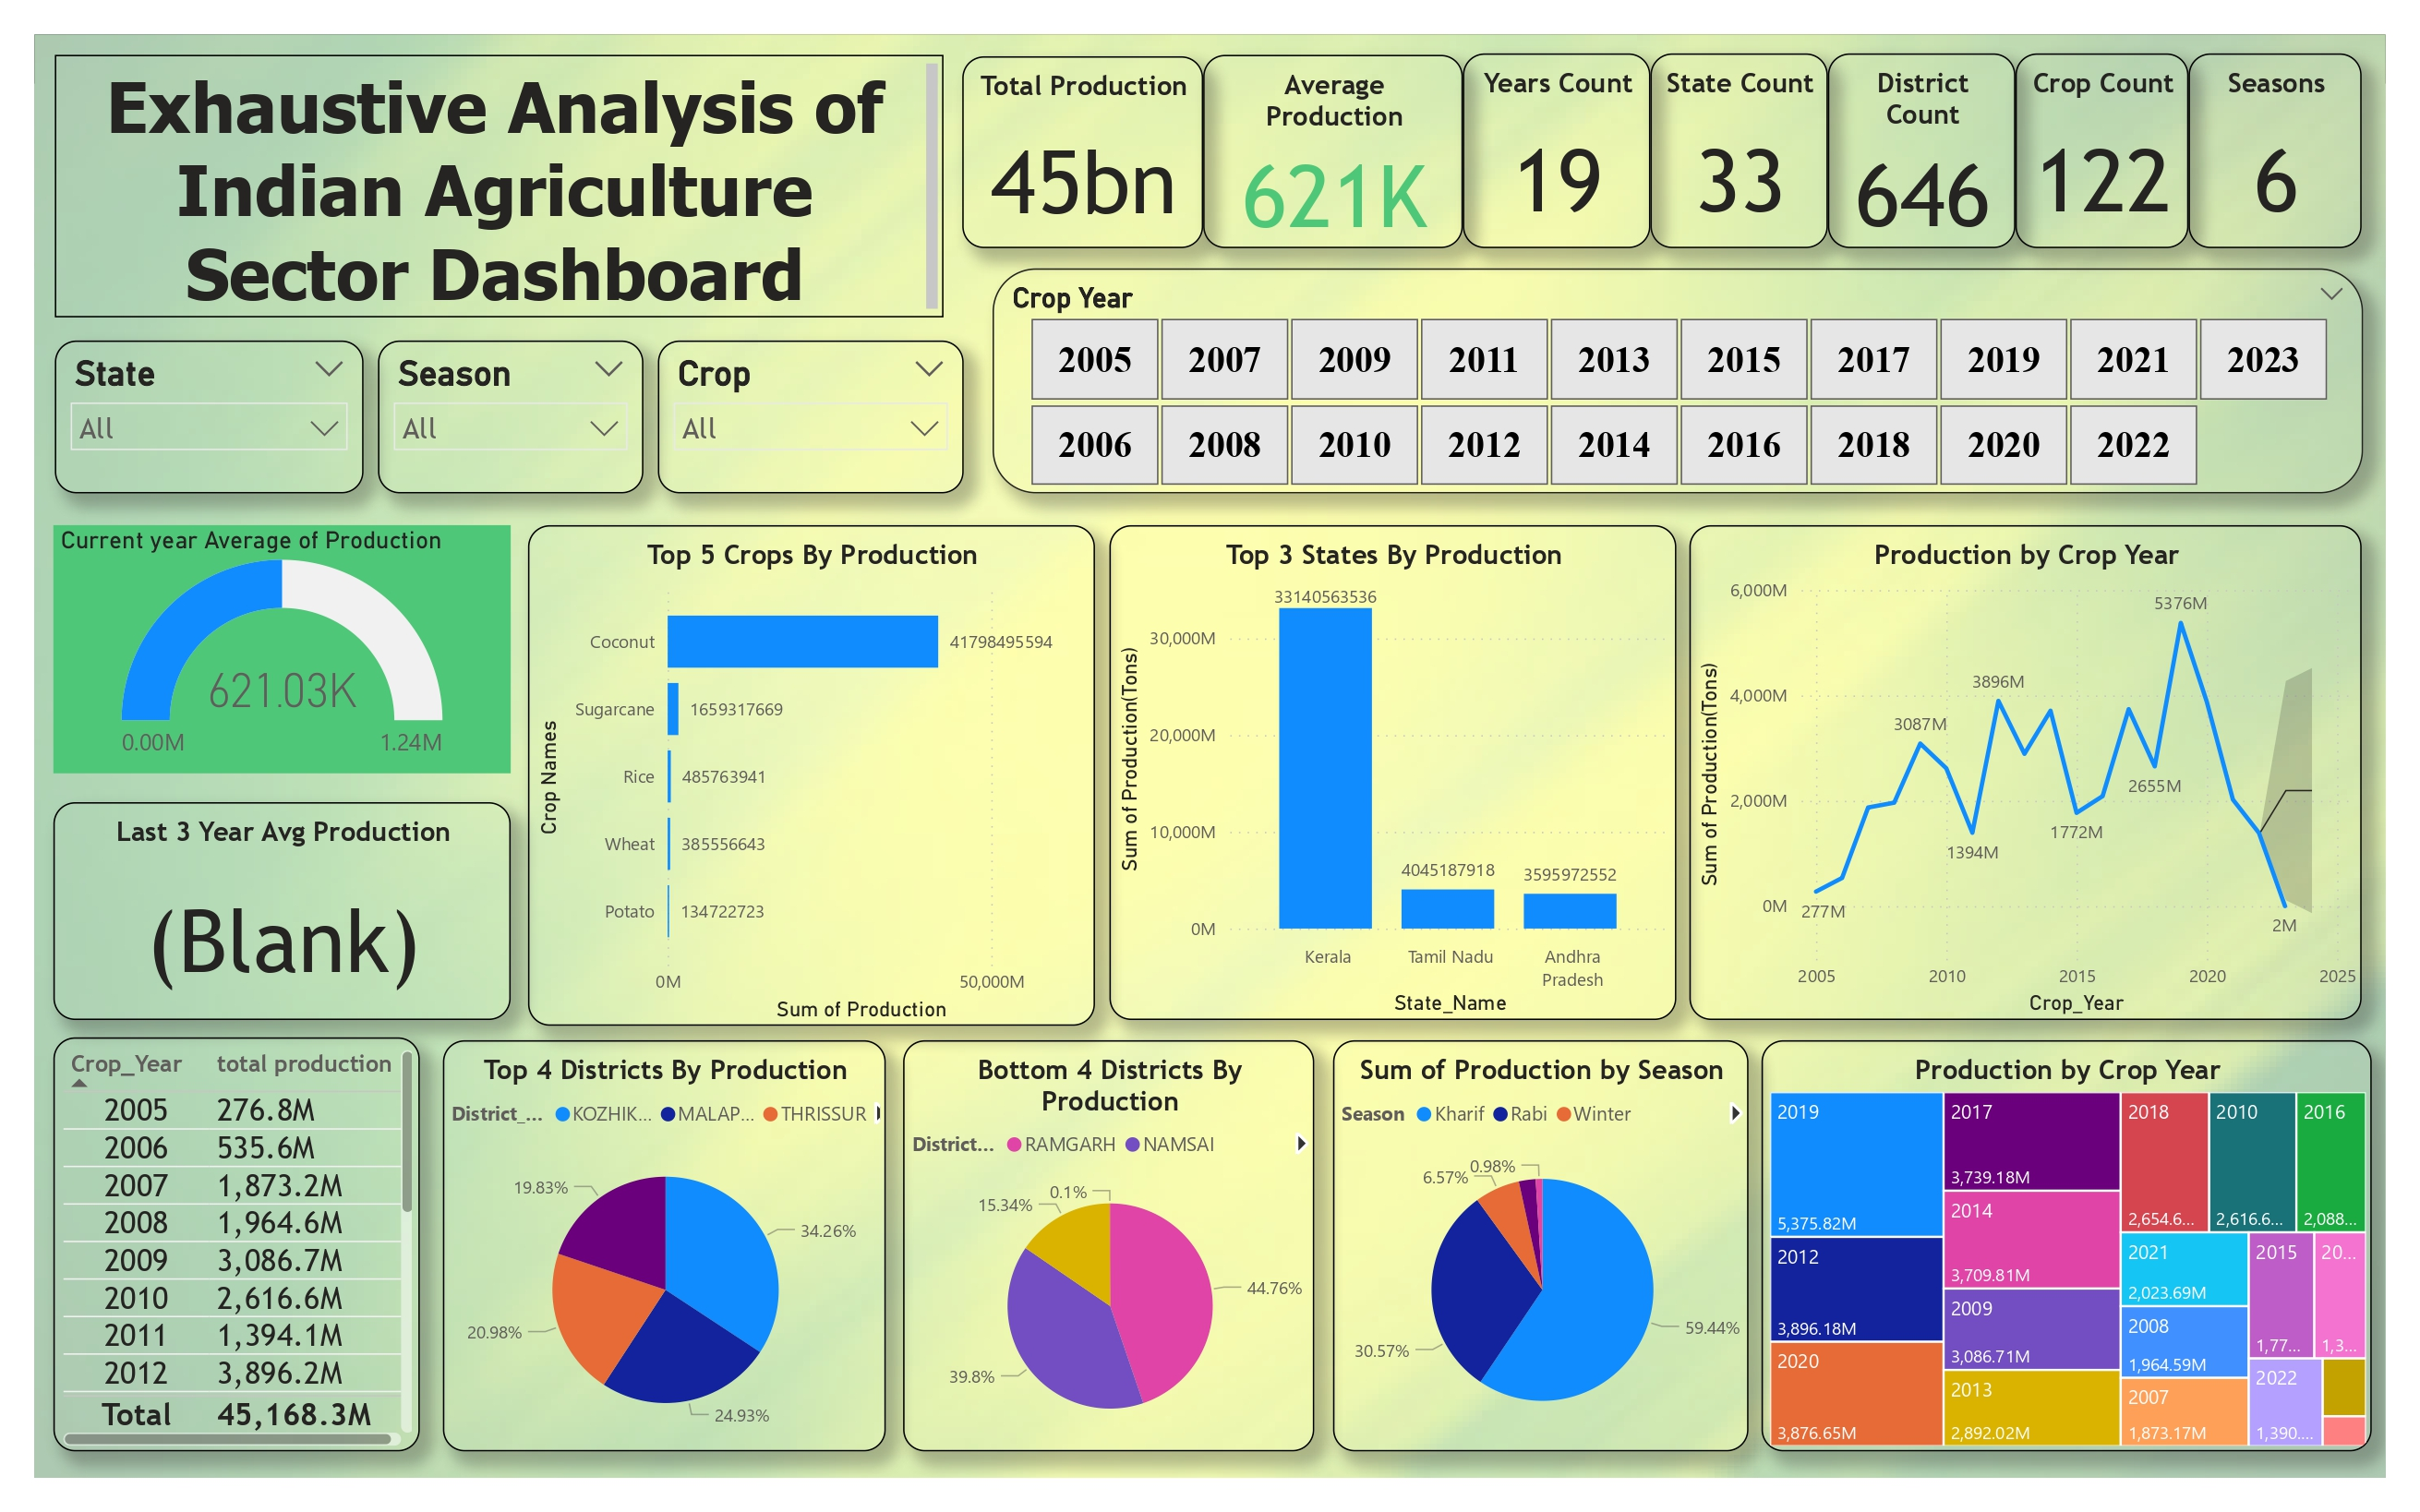

The page's visual inventory and layout, read from the dashboard file:
{"tool":"powerbi","page":{"name":"Dashboard ","canvas":[1630,1000],"ordinal":0},"visuals":[{"type":"slicer","fields":{"Values":["apy_1.Crop_Year"]},"box":[664,162,950,156],"z":0},{"type":"slicer","fields":{"Values":["apy_1.Crop"]},"box":[432,212,212,106],"z":1000},{"type":"slicer","fields":{"Values":["apy_1.State_Name"]},"box":[14,212,214,106],"z":2000},{"type":"barChart","title":"Top 5 Crops By Production ","fields":{"Category":["apy_1.Crop"],"Y":["Sum(apy_1.Production(Tons))"]},"box":[341.7,340,393.3,346.7],"z":3000},{"type":"columnChart","title":"Top 3 States By Production ","fields":{"Category":["apy_1.State_Name"],"Y":["Sum(apy_1.Production(Tons))"]},"box":[745,340,393.3,343.3],"z":4000},{"type":"pieChart","title":"Top 4 Districts By Production ","fields":{"Category":["apy_1.District_Name"],"Y":["Sum(apy_1.Production(Tons))"]},"box":[283.3,696.7,306.7,285],"z":5000},{"type":"pieChart","title":"Bottom 4 Districts By Production ","fields":{"Category":["apy_1.District_Name"],"Y":["Sum(apy_1.Production(Tons))"]},"box":[601.7,696.7,285,285],"z":6000},{"type":"pieChart","title":"Sum of Production by Season","fields":{"Y":["Sum(apy_1.Production(Tons))"],"Category":["apy_1.Season"]},"box":[900,696.7,288.3,285],"z":7000},{"type":"treemap","title":"Production by Crop Year","fields":{"Group":["apy_1.Crop_Year"],"Values":["Sum(apy_1.Production(Tons))"]},"box":[1196.7,696.7,423.3,285],"z":8000},{"type":"slicer","fields":{"Values":["apy_1.Season"]},"box":[238,212,184,106],"z":9000},{"type":"gauge","title":"Current year Average of Production","fields":{"Y":["Avg(apy_1.Production(Tons))"]},"box":[13.3,340,316.7,171.7],"z":10000},{"type":"card","title":"Last 3 Year Avg Production","fields":{"Values":["apy_1.AvgProductionLastthreeYears"]},"box":[13.3,531.7,316.7,151.7],"z":11000},{"type":"card","title":"Average Production","fields":{"Values":["Avg(apy_1.Production(Tons))"]},"box":[810,14,180,134],"z":12000},{"type":"card","title":"Total Production","fields":{"Values":["apy_1.total production"]},"box":[643.3,15,166.7,133.3],"z":13000},{"type":"card","title":"State Count","fields":{"Values":["apy_1.state count"]},"box":[1120,13.3,123.3,135],"z":14000},{"type":"card","title":"District Count ","fields":{"Values":["apy_1.district count"]},"box":[1243.3,13.3,130,135],"z":15000},{"type":"card","title":"Years Count ","fields":{"Values":["apy_1.years count"]},"box":[990,13.3,130,135],"z":16000},{"type":"card","title":"Crop Count","fields":{"Values":["apy_1.crop count"]},"box":[1373.3,13.3,120,135],"z":17000},{"type":"textbox","box":[14,14,616,182],"z":18000},{"type":"card","title":"Seasons","fields":{"Values":["apy_1.season count"]},"box":[1493.3,13.3,120,135],"z":19000},{"type":"tableEx","fields":{"Values":["apy_1.Crop_Year","apy_1.total production"]},"box":[13.3,695,253.3,286.7],"z":20000},{"type":"lineChart","title":"Production by Crop Year","fields":{"Y":["Sum(apy_1.Production(Tons))"],"Category":["apy_1.Crop_Year"]},"box":[1146.7,340,466.7,343.3],"z":21000}]}

Visuals, with their boxes in screenshot pixels (x1, y1, x2, y2):
slicer - apy_1.Crop_Year: {"left": 993, "top": 269, "right": 2363, "bottom": 494}
slicer - apy_1.Crop: {"left": 657, "top": 341, "right": 963, "bottom": 494}
slicer - apy_1.State_Name: {"left": 54, "top": 341, "right": 364, "bottom": 494}
"Top 5 Crops By Production " barChart: {"left": 527, "top": 525, "right": 1095, "bottom": 1026}
"Top 3 States By Production " columnChart: {"left": 1109, "top": 525, "right": 1676, "bottom": 1020}
"Top 4 Districts By Production " pieChart: {"left": 443, "top": 1039, "right": 885, "bottom": 1451}
"Bottom 4 Districts By Production " pieChart: {"left": 902, "top": 1039, "right": 1313, "bottom": 1451}
"Sum of Production by Season" pieChart: {"left": 1332, "top": 1039, "right": 1749, "bottom": 1451}
"Production by Crop Year" treemap: {"left": 1761, "top": 1039, "right": 2371, "bottom": 1451}
slicer - apy_1.Season: {"left": 378, "top": 341, "right": 644, "bottom": 494}
"Current year Average of Production" gauge: {"left": 54, "top": 525, "right": 511, "bottom": 773}
"Last 3 Year Avg Production" card: {"left": 54, "top": 802, "right": 511, "bottom": 1021}
"Average Production" card: {"left": 1203, "top": 54, "right": 1463, "bottom": 248}
"Total Production" card: {"left": 962, "top": 56, "right": 1203, "bottom": 248}
"State Count" card: {"left": 1650, "top": 54, "right": 1827, "bottom": 248}
"District Count " card: {"left": 1827, "top": 54, "right": 2016, "bottom": 248}
"Years Count " card: {"left": 1463, "top": 54, "right": 1650, "bottom": 248}
"Crop Count" card: {"left": 2016, "top": 54, "right": 2188, "bottom": 248}
textbox: {"left": 54, "top": 54, "right": 944, "bottom": 318}
"Seasons" card: {"left": 2188, "top": 54, "right": 2361, "bottom": 248}
tableEx - apy_1.Crop_Year x apy_1.total production: {"left": 54, "top": 1038, "right": 419, "bottom": 1451}
"Production by Crop Year" lineChart: {"left": 1689, "top": 525, "right": 2362, "bottom": 1020}
